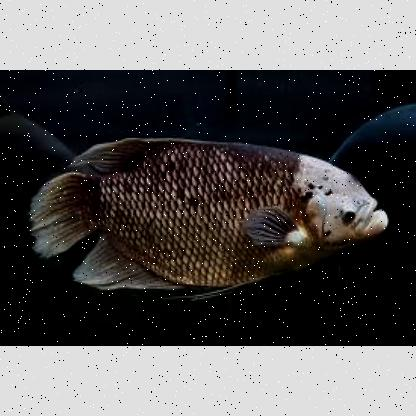gurame: (37, 140, 389, 296)
